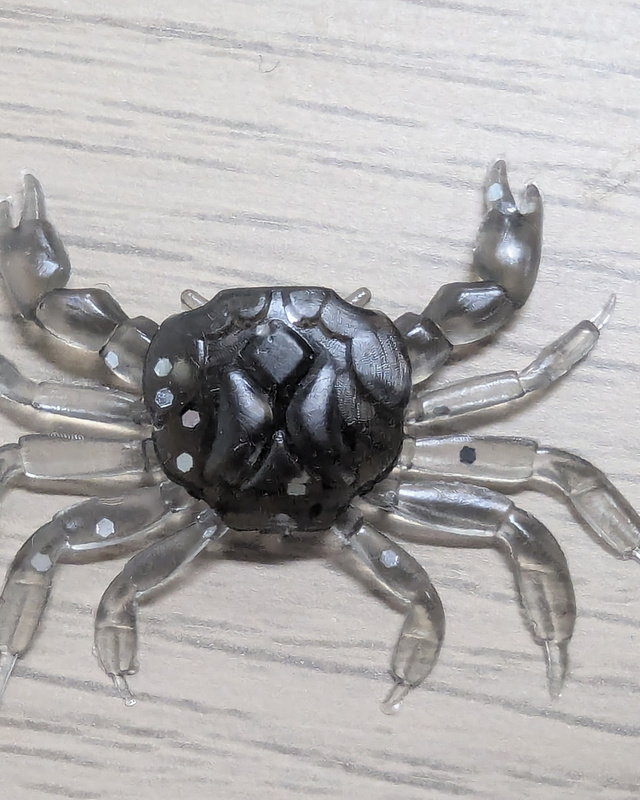crab1: (1, 160, 640, 714)
